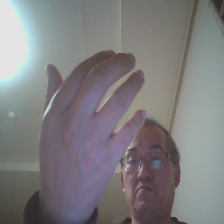hand: (31, 50, 149, 223)
